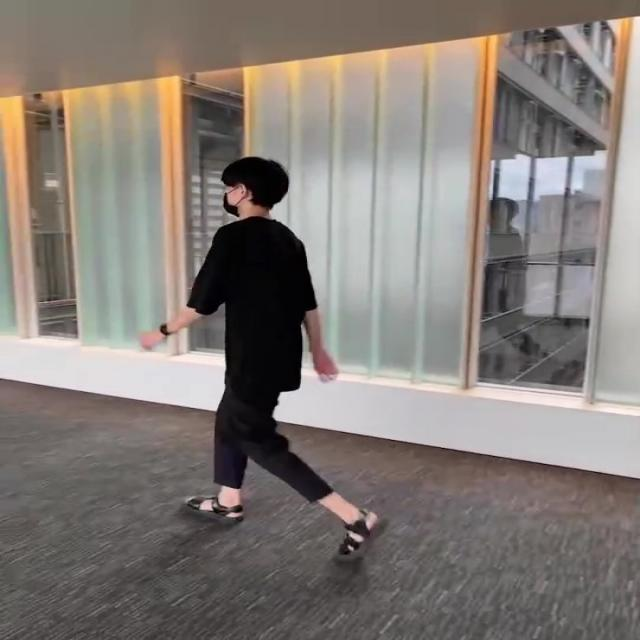direk: (138, 154, 388, 568)
